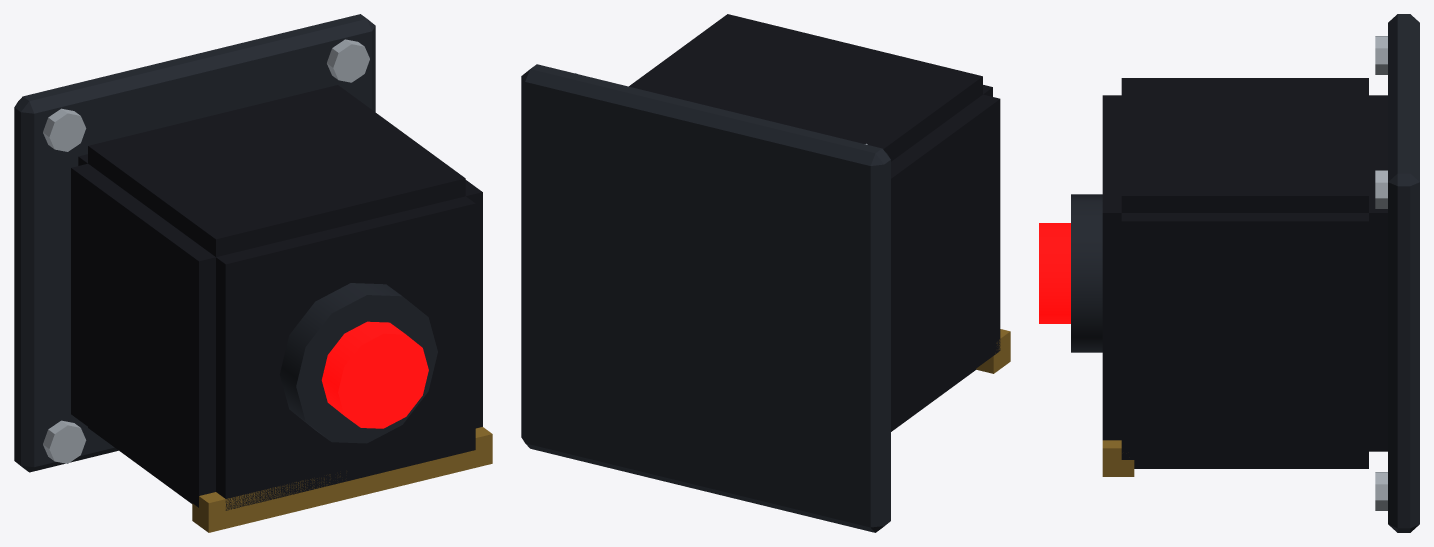
File: laser_emitter.glb
3 renders of one model, left to right at view 1: azimuth 30°, elevation 25°; view 2: azimuth 150°, elevation 25°; view 3: azimuth 270°, elevation 25°, orthographic. The views are drawn at different scales.
Parts seen in each view (by area): view 1: laser_emitter, lens; view 2: laser_emitter; view 3: laser_emitter, lens.
Part boxes in pixels (x1=…): laser_emitter: x1=14, y1=14, x2=492, y2=532; lens: x1=321, y1=321, x2=428, y2=428; laser_emitter: x1=521, y1=14, x2=1010, y2=532; laser_emitter: x1=1071, y1=14, x2=1419, y2=532; lens: x1=1039, y1=223, x2=1070, y2=323.
Size of the model in its own units: 0.25 by 0.25 by 0.24.
